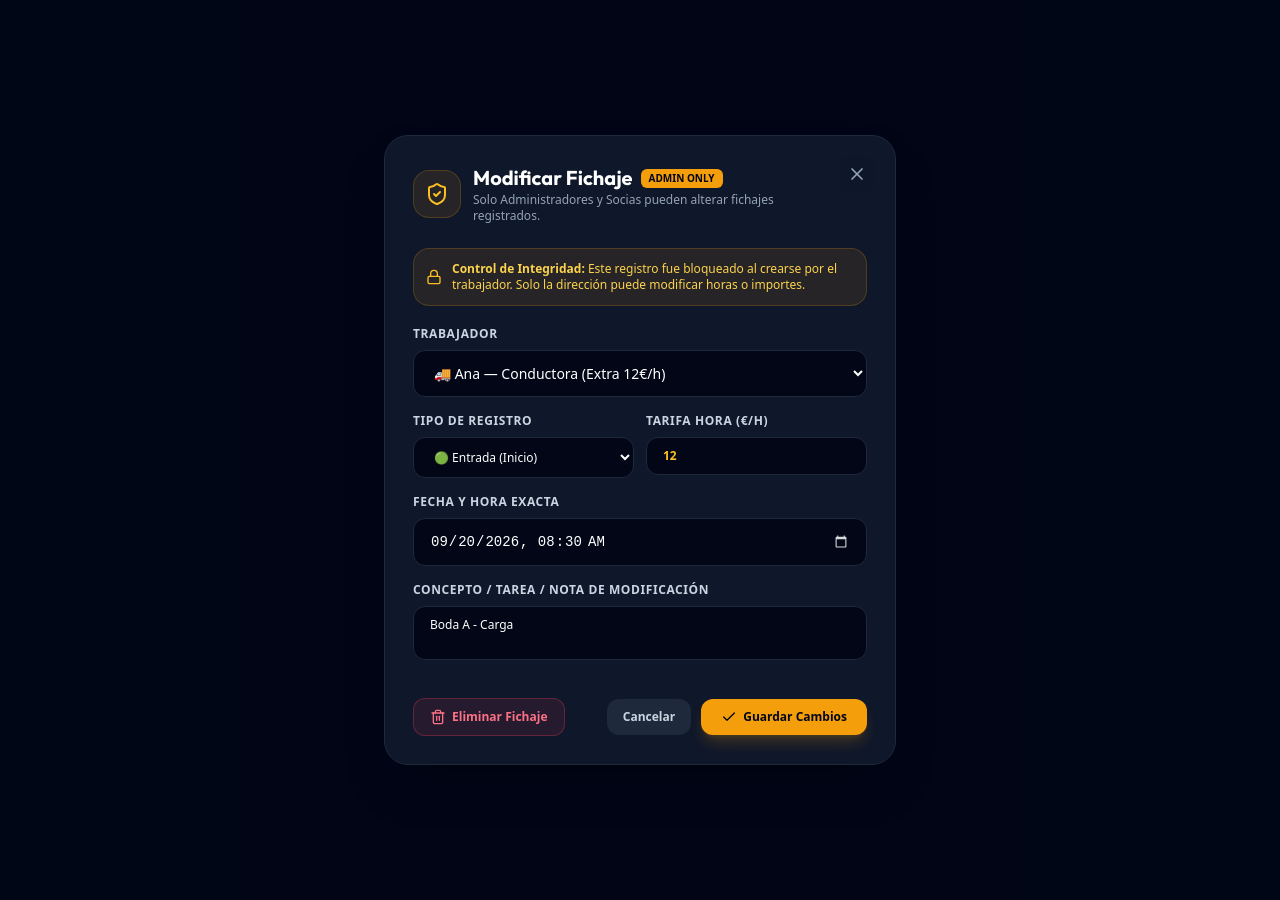
Scenario: AdminClockEditModal › si el fichaje tiene pareja, avisa de que el turno quedará descuadrado
This screenshot has width=1280, height=900.
Click the button "Eliminar Fichaje" at (489, 717), box [413,698,564,736]
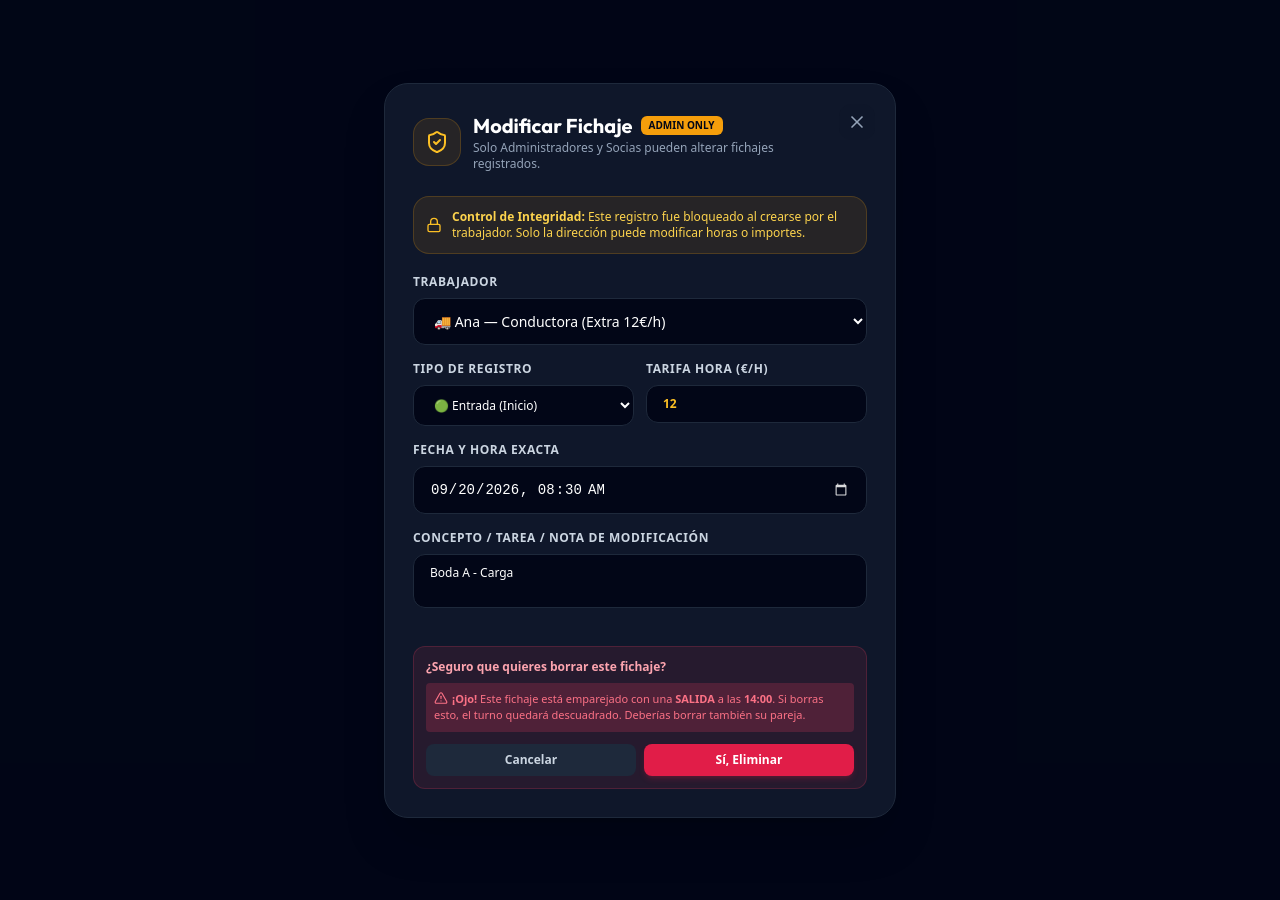
Check: the text "quedará descuadrado" is shown, box [434,690,824,722]
Check: the text "SALIDA" is shown, box [675,690,715,706]
